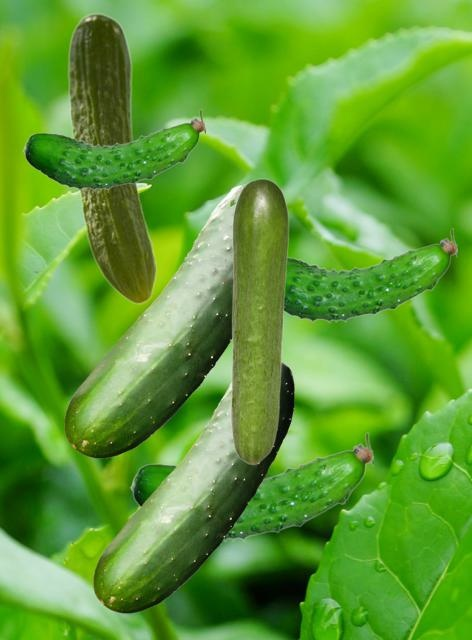cucumber: (93, 362, 293, 612), (64, 184, 244, 457), (129, 432, 372, 541), (67, 12, 156, 304), (230, 178, 288, 464), (285, 228, 456, 322), (22, 109, 204, 190)
